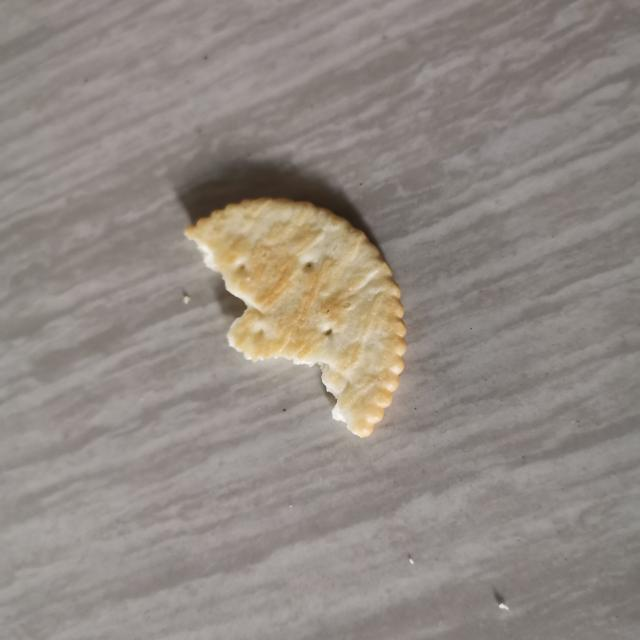Broken: (183, 195, 408, 438)
